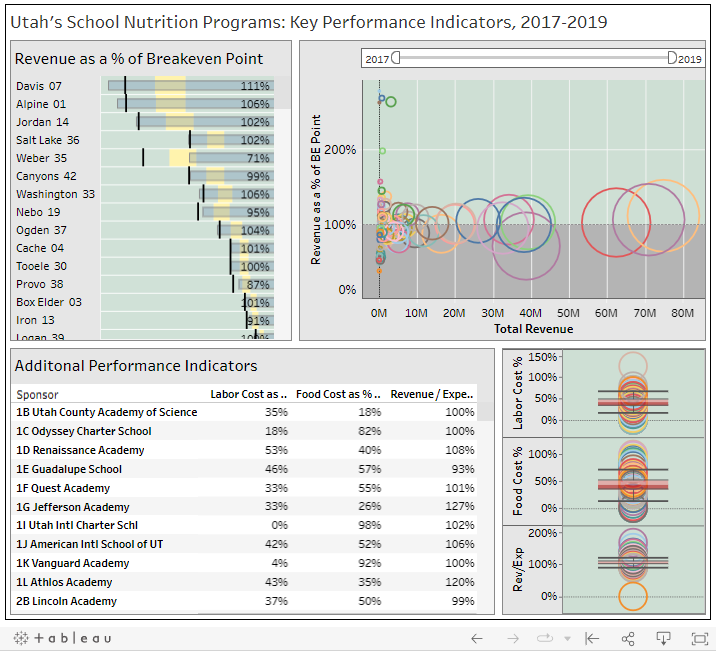

Layout of this report page (visuals, bound fields, positions):
{"tool":"tableau","page":{"name":"Distributions","canvas":[900,500],"ordinal":1},"visuals":[{"type":"text","box":[9,9,882,28]},{"type":"worksheet","title":"Sheet 1","mark":"Automatic","rows":["List By Name.x (copy)_692991420351942658"],"box":[9,37,540.8,212.9]},{"type":"worksheet","title":"Sheet 6 (2)","mark":"Circle","cols":["Z Score Mean"],"box":[549.8,37,341.2,53.6]},{"type":"worksheet","title":"Sheet 3","mark":"Automatic","rows":["Z Score Mean"],"cols":["Z Score Mean (bin)"],"box":[549.8,90.7,341.2,159.3]},{"type":"text","box":[9,250,882,29.7]},{"type":"worksheet","title":"Sheet 2","mark":"Automatic","rows":["List By Name.x (copy)_692991420351942658"],"box":[9,279.7,540,211.3]},{"type":"worksheet","title":"Sheet 6","mark":"Circle","cols":["Z Score Yoy"],"box":[549,279.7,342,52.8]},{"type":"worksheet","title":"Sheet 5","mark":"Automatic","rows":["Z Score Yoy"],"cols":["Z Score Yoy (bin)"],"box":[549,332.5,342,158.5]}]}

Visuals, with their boxes on the page's 900x500 design canvas (x1, y1, x2, y2). These are canvas units, not pixel positions in the 716x652 screenshot, which may show the page scaled, cropped or inside an application window:
text: (9,9,891,37)
"Sheet 1" worksheet: (9,37,550,250)
"Sheet 6 (2)" worksheet (Circle marks): (550,37,891,91)
"Sheet 3" worksheet: (550,91,891,250)
text: (9,250,891,280)
"Sheet 2" worksheet: (9,280,549,491)
"Sheet 6" worksheet (Circle marks): (549,280,891,332)
"Sheet 5" worksheet: (549,332,891,491)
